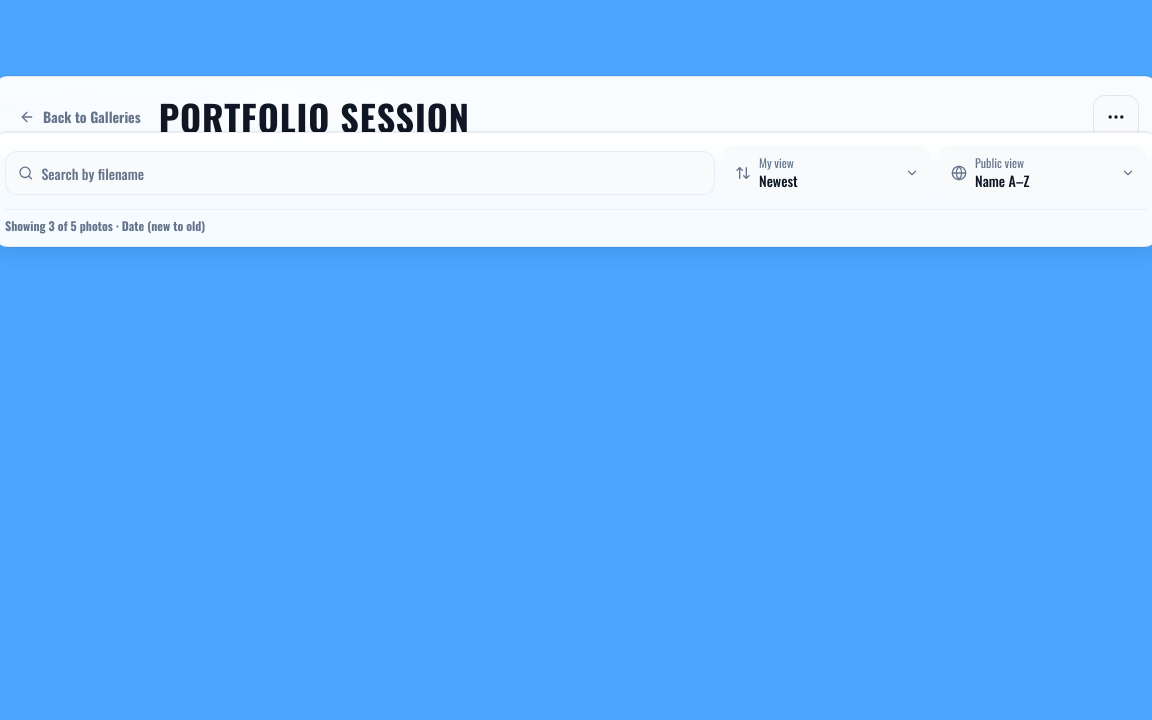
Test: GalleryHeader › opens the public sort popover from the button
Click the button with aria-label "public sort".
click(1043, 173)  # box 939,145 -> 1147,201
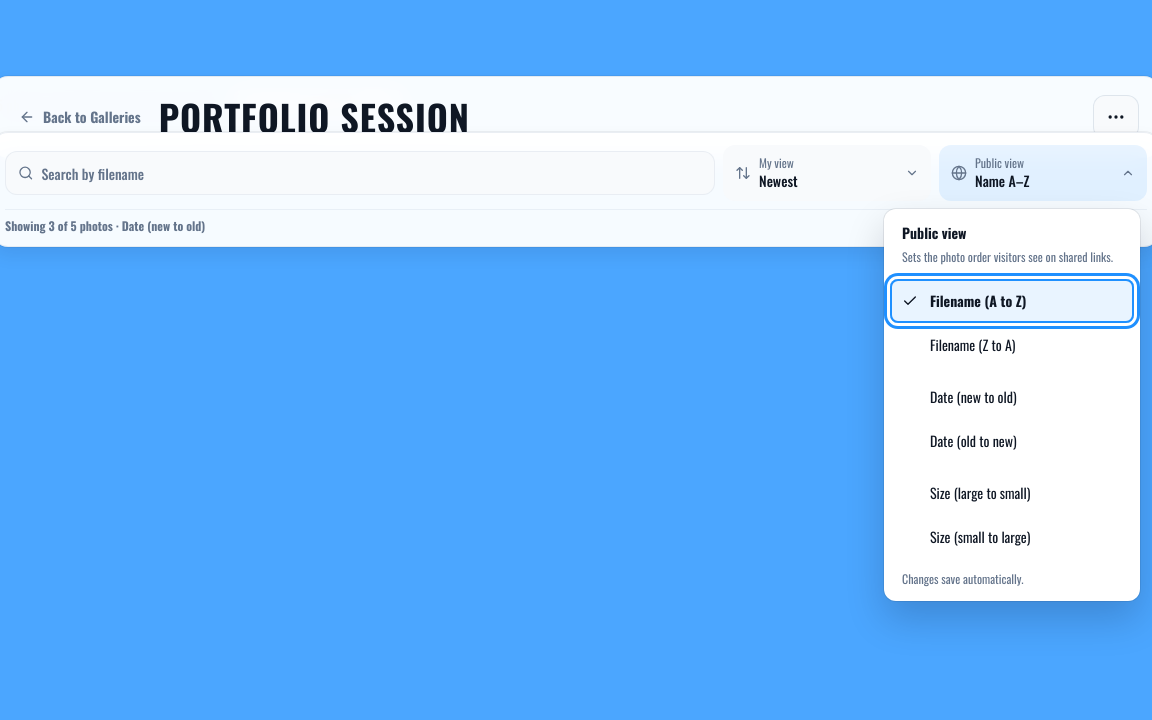
Check: the element named "public sort" is shown, box 890,278 -> 1134,558
